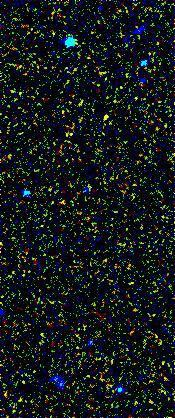star: (92, 104, 122, 134)
